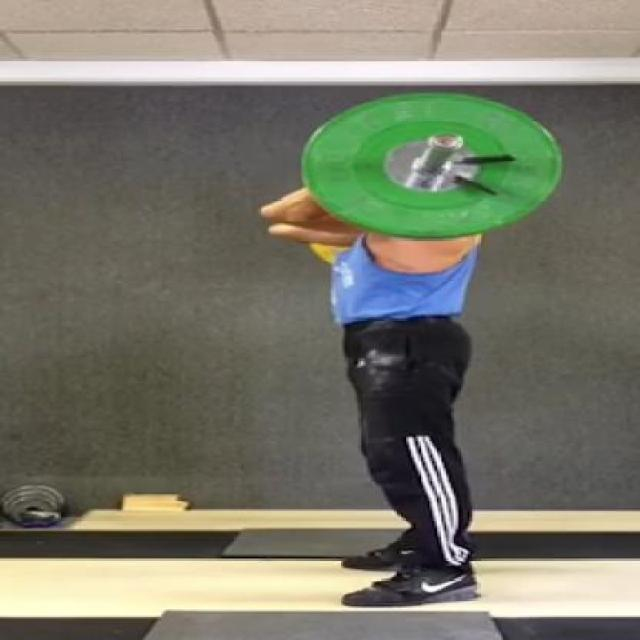barbell: (283, 91, 579, 240)
